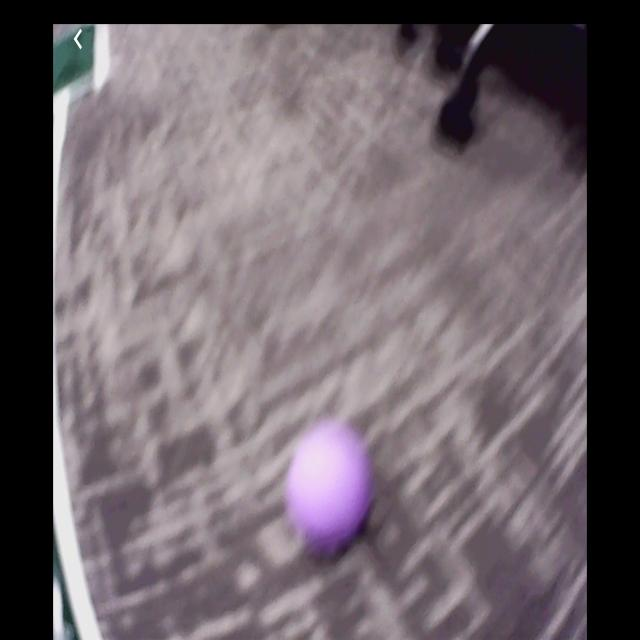ball: (290, 420, 373, 554)
